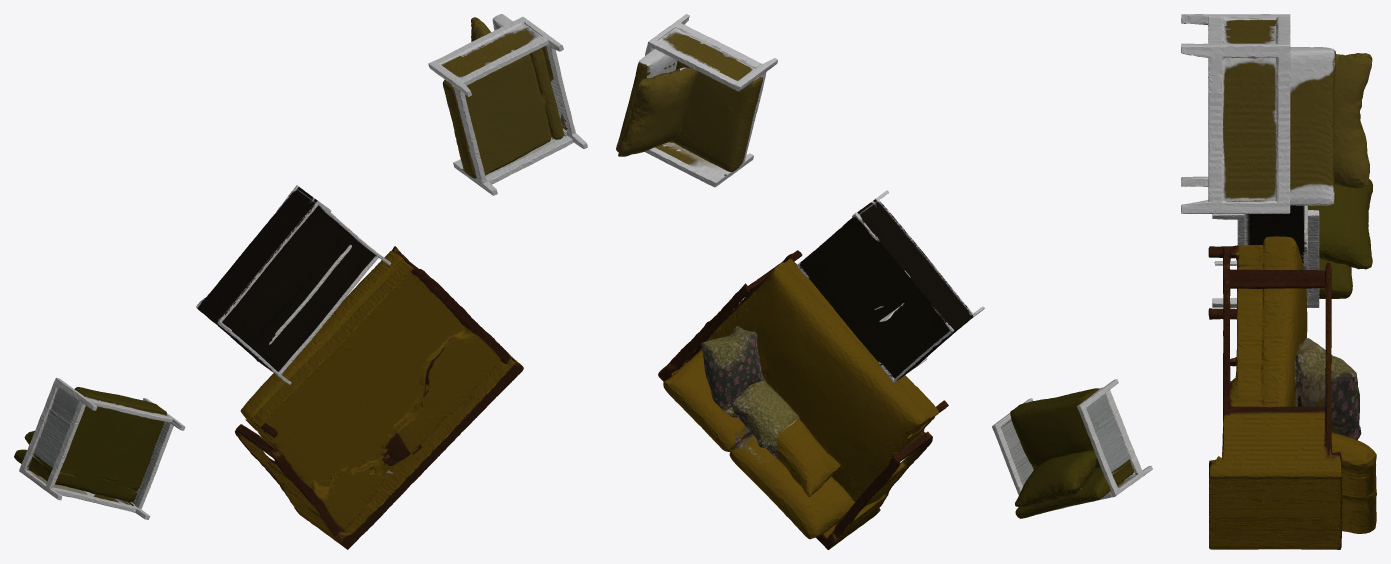
3 renders of one model, left to right at view 1: azimuth 30°, elevation 25°; view 2: azimuth 150°, elevation 25°; view 3: azimuth 270°, elevation 25°, orthographic. The views are drawn at different scales.
Visible parts, largest first — view 1: scene_0000092_object_2_textured_scene_0000092_object_2_textu, scene_0000092_object_3_textured_scene_0000092_object_3_textu, scene_0000092_object_0_textured_scene_0000092_object_0_textu, scene_0000092_object_1_textured_scene_0000092_object_1_textu; view 2: scene_0000092_object_2_textured_scene_0000092_object_2_textu, scene_0000092_object_0_textured_scene_0000092_object_0_textu, scene_0000092_object_3_textured_scene_0000092_object_3_textu, scene_0000092_object_1_textured_scene_0000092_object_1_textu; view 3: scene_0000092_object_2_textured_scene_0000092_object_2_textu, scene_0000092_object_0_textured_scene_0000092_object_0_textu, scene_0000092_object_1_textured_scene_0000092_object_1_textu, scene_0000092_object_3_textured_scene_0000092_object_3_textu.
Part boxes in pixels (bbox=[...]): scene_0000092_object_2_textured_scene_0000092_object_2_textu: bbox=[235, 246, 523, 549]; scene_0000092_object_3_textured_scene_0000092_object_3_textu: bbox=[196, 185, 390, 384]; scene_0000092_object_0_textured_scene_0000092_object_0_textu: bbox=[428, 14, 587, 195]; scene_0000092_object_1_textured_scene_0000092_object_1_textu: bbox=[14, 377, 185, 519]; scene_0000092_object_2_textured_scene_0000092_object_2_textu: bbox=[658, 250, 948, 549]; scene_0000092_object_0_textured_scene_0000092_object_0_textu: bbox=[616, 14, 777, 187]; scene_0000092_object_3_textured_scene_0000092_object_3_textu: bbox=[796, 190, 984, 383]; scene_0000092_object_1_textured_scene_0000092_object_1_textu: bbox=[992, 379, 1152, 518]; scene_0000092_object_2_textured_scene_0000092_object_2_textu: bbox=[1208, 236, 1376, 549]; scene_0000092_object_0_textured_scene_0000092_object_0_textu: bbox=[1181, 14, 1372, 213]; scene_0000092_object_1_textured_scene_0000092_object_1_textu: bbox=[1212, 179, 1372, 307]; scene_0000092_object_3_textured_scene_0000092_object_3_textu: bbox=[1214, 205, 1308, 266].
Size of the model in its own units: 3.71 by 3.16 by 0.8728.
Materials: 4 (4 with a texture image).
